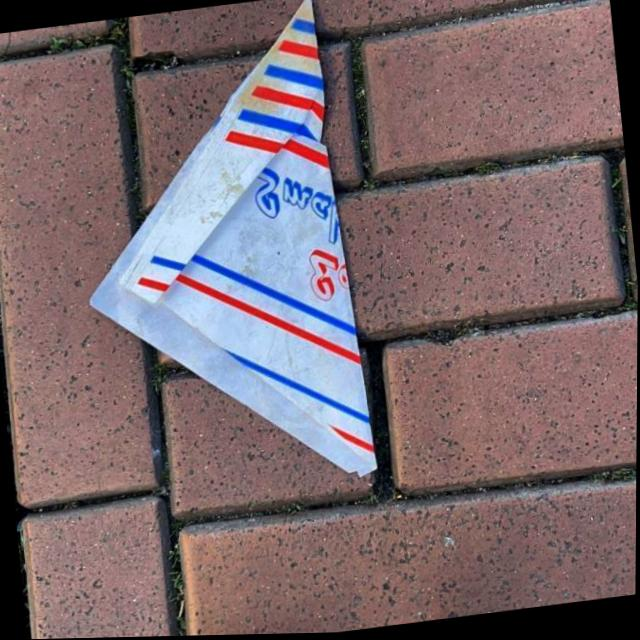Paper: (51, 0, 385, 510)
